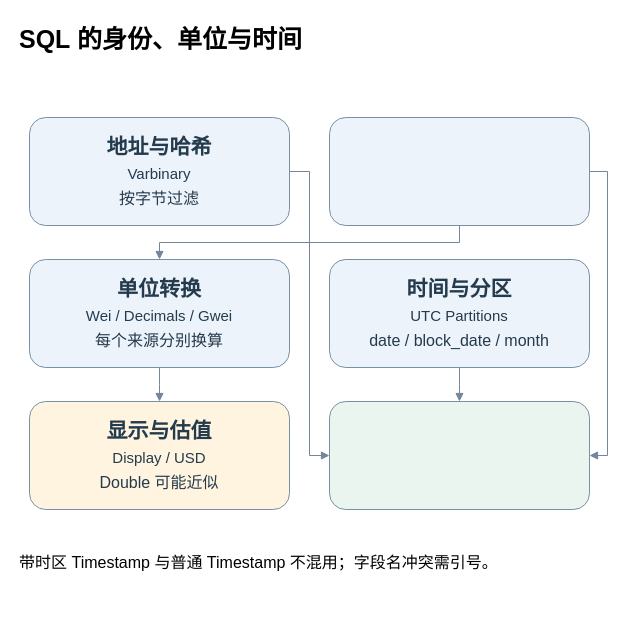
Image size: 633x633. Some labels were removed from this diagram. The centre of each missing label's shape, as x and y in pixels:
"保留原材料 Raw Amount + Identity 避免丢失对账精度" belongs at pixel 459 455.
"精确原始整数 Uint256 / Decimal 范围需先核对" belongs at pixel 459 171.
